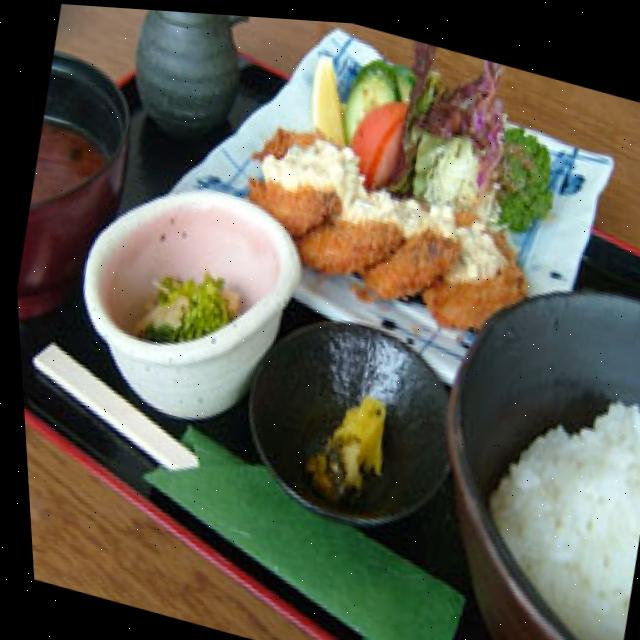炸货点心: (212, 80, 593, 337)
熟制海鲜: (212, 80, 593, 337)
